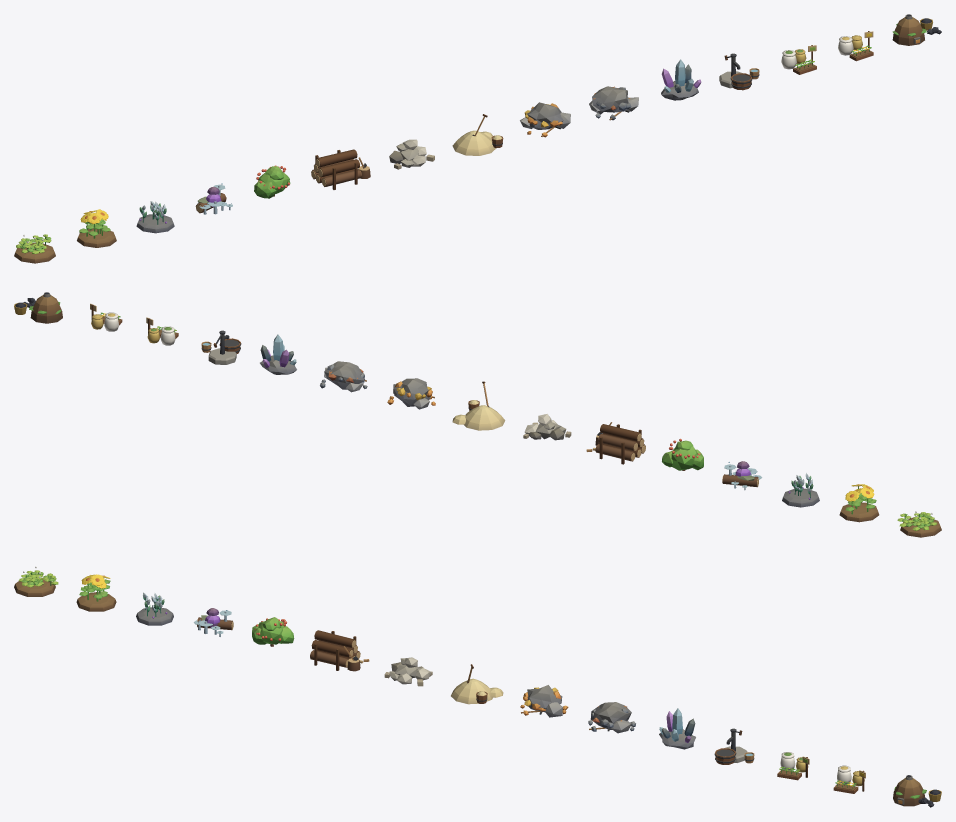
The model's file is arcane_resources.fbx.
3 renders of one model, top to bottom at view 1: azimuth 30°, elevation 25°; view 2: azimuth 150°, elevation 25°; view 3: azimuth 330°, elevation 25°, orthographic.
Visible parts, largest first — view 1: res_wood_log, res_ore_iron, res_ore_copper, res_herb_sunleaf, res_crystal_raw, res_sand, res_fuel_charcoal, res_herb_mint, res_stone, res_berry_red, res_herb_moonleaf, res_water (+3 smaller); view 2: res_wood_log, res_herb_sunleaf, res_sand, res_ore_copper, res_fuel_charcoal, res_ore_iron, res_berry_red, res_crystal_raw, res_herb_mint, res_water, res_herb_moonleaf, res_stone (+3 smaller); view 3: res_wood_log, res_herb_sunleaf, res_ore_iron, res_ore_copper, res_fuel_charcoal, res_crystal_raw, res_sand, res_berry_red, res_herb_mint, res_stone, res_herb_moonleaf, res_water (+3 smaller).
Part boxes in pixels (x1,y1,x2,y2): res_wood_log: (311, 149, 370, 189); res_ore_iron: (589, 86, 638, 120); res_ore_copper: (520, 102, 570, 137); res_herb_sunleaf: (77, 209, 116, 247); res_crystal_raw: (661, 59, 701, 100); res_sand: (452, 114, 503, 155); res_fuel_charcoal: (892, 14, 941, 45); res_herb_mint: (14, 234, 55, 263); res_stone: (389, 139, 434, 169); res_berry_red: (254, 165, 290, 198); res_herb_moonleaf: (136, 201, 174, 233); res_water: (719, 53, 759, 90); res_wood_log: (586, 422, 645, 464); res_herb_sunleaf: (839, 484, 879, 522); res_sand: (452, 381, 505, 430); res_ore_copper: (387, 378, 435, 409); res_fuel_charcoal: (14, 292, 62, 323); res_ore_iron: (320, 361, 367, 392); res_berry_red: (662, 438, 703, 470); res_crystal_raw: (260, 334, 296, 374); res_herb_mint: (897, 511, 941, 537); res_water: (201, 330, 241, 364); res_herb_moonleaf: (782, 473, 819, 507); res_stone: (523, 414, 571, 440); res_wood_log: (310, 630, 369, 671); res_herb_sunleaf: (76, 574, 116, 611); res_ore_iron: (588, 702, 635, 733); res_ore_copper: (520, 685, 568, 717); res_fuel_charcoal: (893, 775, 941, 807); res_crystal_raw: (659, 708, 695, 749); res_sand: (451, 664, 503, 704); res_berry_red: (252, 617, 294, 646); res_herb_mint: (14, 566, 58, 596); res_stone: (384, 657, 432, 686); res_herb_moonleaf: (136, 592, 173, 625); res_water: (714, 728, 754, 764).
Size of the model in its own units: 109 by 4.3 by 4.68.
1 material, 1 textured.
